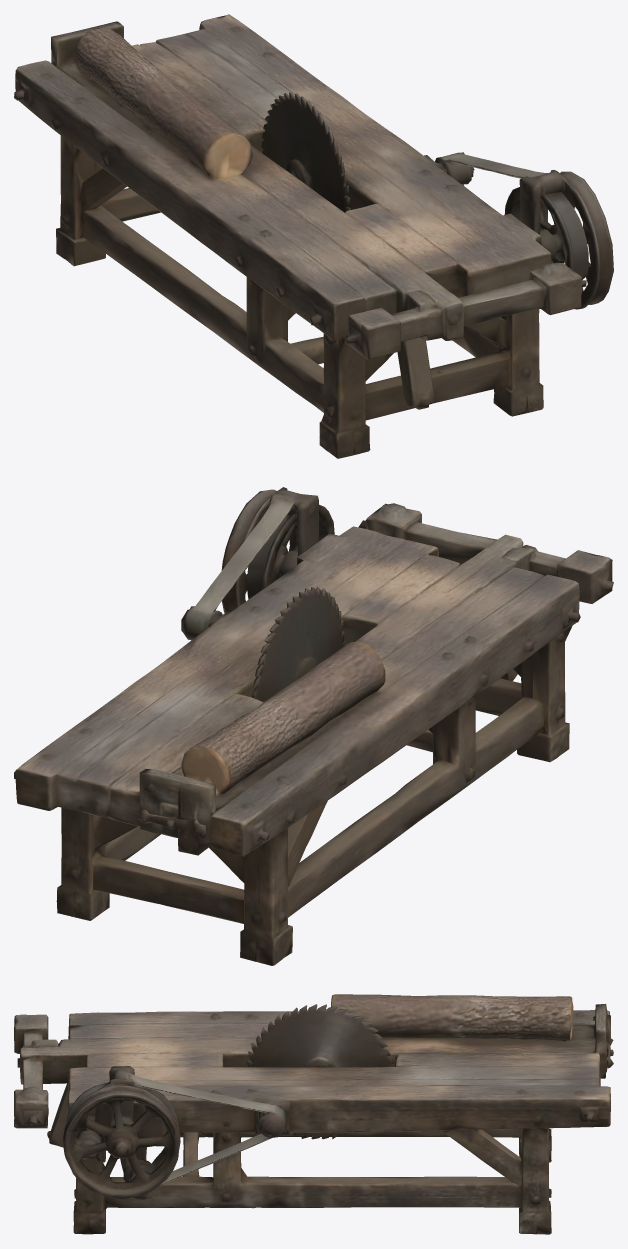
Rendered from prop_saw_bench.glb.
3 views of the same model, one above another, from view 1: azimuth 30°, elevation 25°; view 2: azimuth 150°, elevation 25°; view 3: azimuth 270°, elevation 25° (orthographic). The views are drawn at different scales.
Visible parts, largest first — view 1: tripo_node_84196dae-6317-447d-ace9-fec49a8ed3c3; view 2: tripo_node_84196dae-6317-447d-ace9-fec49a8ed3c3; view 3: tripo_node_84196dae-6317-447d-ace9-fec49a8ed3c3.
Part boxes in pixels (bbox=[...]): tripo_node_84196dae-6317-447d-ace9-fec49a8ed3c3: bbox=[14, 14, 613, 458]; tripo_node_84196dae-6317-447d-ace9-fec49a8ed3c3: bbox=[14, 487, 613, 965]; tripo_node_84196dae-6317-447d-ace9-fec49a8ed3c3: bbox=[14, 994, 613, 1234].
Size of the model in its own units: 0.4857 by 0.3533 by 1.
Materials: 1 (1 with a texture image).
